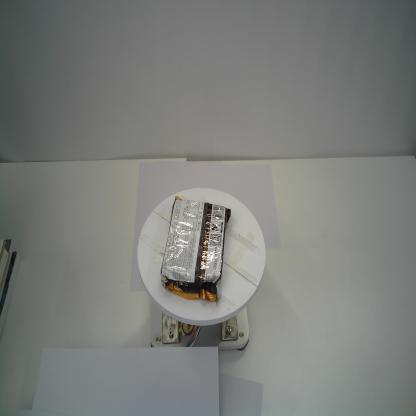Dessert: (160, 195, 231, 308)
